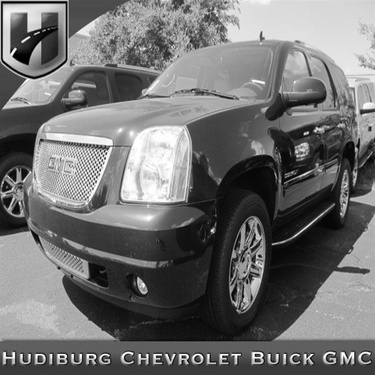car: (21, 25, 361, 338), (2, 60, 169, 224), (334, 66, 373, 174)
